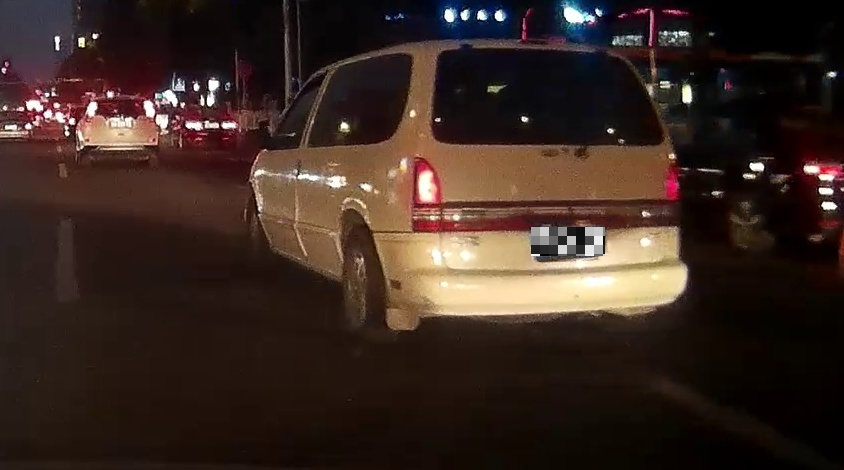L_light: (413, 157, 441, 204), (86, 102, 97, 118)
R_light: (664, 163, 680, 201), (144, 100, 156, 118)
T_light: (517, 49, 557, 56), (115, 100, 126, 102)
night-left: (407, 40, 688, 348)
night-no: (83, 97, 159, 169)
plate_1: (531, 227, 605, 256)
